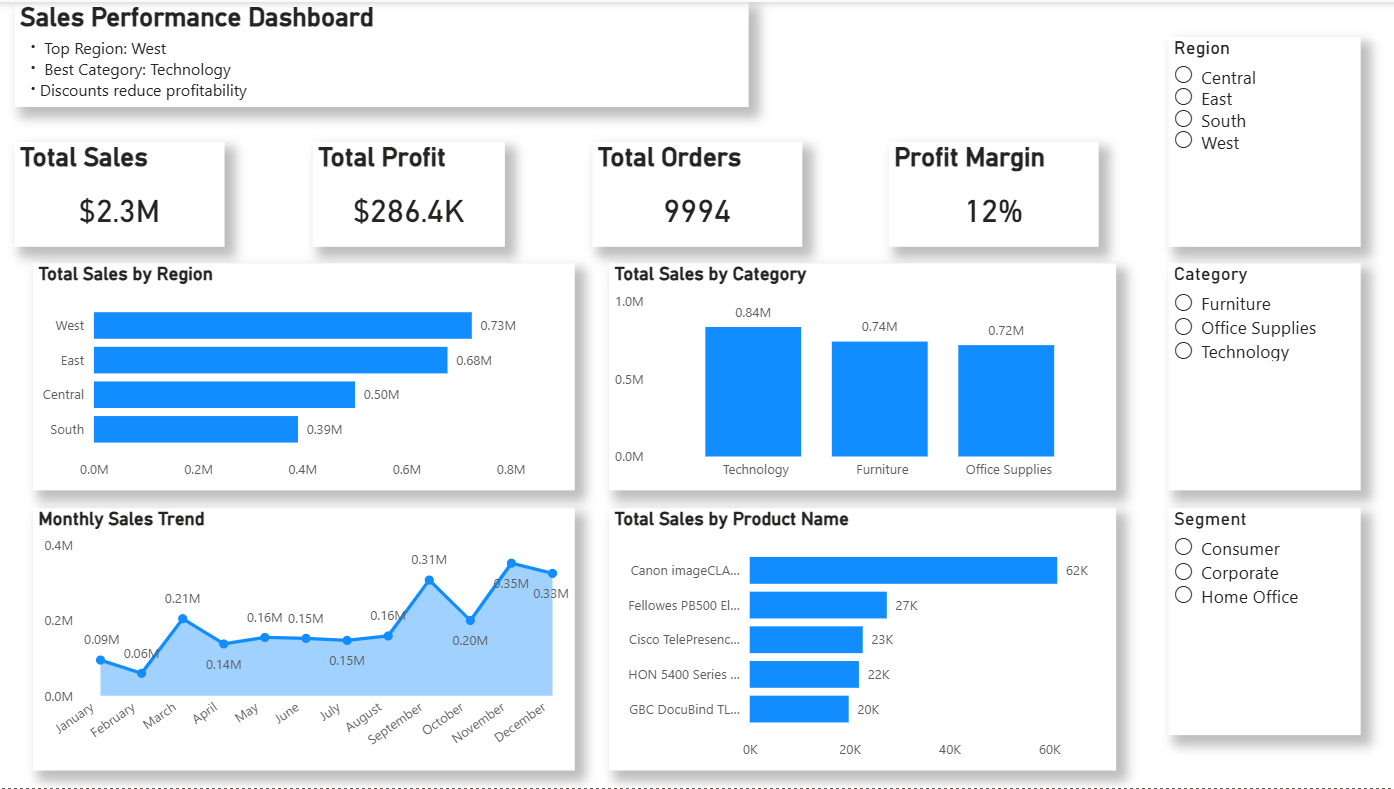

The dashboard page shown, as its layout file describes it:
{"tool":"powerbi","page":{"name":"Page 1","canvas":[1280,720],"ordinal":0},"visuals":[{"type":"card","title":"Total Sales","fields":{"Values":["superstore_sales_cleaned.Total Sales"]},"box":[16,128,192,96],"z":0},{"type":"card","title":"Total Profit","fields":{"Values":["superstore_sales_cleaned.Total Profit"]},"box":[288,128,176,96],"z":1000},{"type":"card","title":"Total Orders","fields":{"Values":["superstore_sales_cleaned.Total Orders"]},"box":[544,128,192,96],"z":2000},{"type":"card","title":"Profit Margin","fields":{"Values":["superstore_sales_cleaned.Profit Margin"]},"box":[816,128,192,96],"z":3000},{"type":"clusteredBarChart","fields":{"Category":["superstore_sales_cleaned.Region"],"Y":["superstore_sales_cleaned.Total Sales"]},"box":[32,240,496,208],"z":4000},{"type":"clusteredColumnChart","fields":{"Category":["superstore_sales_cleaned.Category"],"Y":["superstore_sales_cleaned.Total Sales"]},"box":[560,240,464,208],"z":5000},{"type":"clusteredBarChart","fields":{"Category":["superstore_sales_cleaned.Product Name"],"Y":["superstore_sales_cleaned.Total Sales"]},"box":[560,464,464,240],"z":6000},{"type":"lineChart","title":"Monthly Sales Trend","fields":{"Category":["superstore_sales_cleaned.Order Date.Variation.Date Hierarchy.Month"],"Y":["superstore_sales_cleaned.Total Sales"]},"box":[32,464,496,240],"z":7000},{"type":"textbox","title":"Sales Performance Dashboard","box":[16,0,672,96],"z":8000},{"type":"listSlicer","fields":{"Values":["superstore_sales_cleaned.Region"]},"box":[1072,32,176,192],"z":9000},{"type":"listSlicer","fields":{"Values":["superstore_sales_cleaned.Category"]},"box":[1072,240,176,208],"z":10000},{"type":"listSlicer","fields":{"Values":["superstore_sales_cleaned.Segment"]},"box":[1072,464,176,208],"z":11000}]}

Visuals, with their boxes in screenshot pixels (x1, y1, x2, y2), scaled from the page's 1280x720 canvas onto the 1394x789 screenshot:
"Total Sales" card: 17:140:227:245
"Total Profit" card: 314:140:505:245
"Total Orders" card: 592:140:802:245
"Profit Margin" card: 889:140:1098:245
clusteredBarChart - superstore_sales_cleaned.Region x superstore_sales_cleaned.Total Sales: 35:263:575:491
clusteredColumnChart - superstore_sales_cleaned.Category x superstore_sales_cleaned.Total Sales: 610:263:1115:491
clusteredBarChart - superstore_sales_cleaned.Product Name x superstore_sales_cleaned.Total Sales: 610:508:1115:771
"Monthly Sales Trend" lineChart: 35:508:575:771
"Sales Performance Dashboard" textbox: 17:0:749:105
listSlicer - superstore_sales_cleaned.Region: 1167:35:1359:245
listSlicer - superstore_sales_cleaned.Category: 1167:263:1359:491
listSlicer - superstore_sales_cleaned.Segment: 1167:508:1359:736
